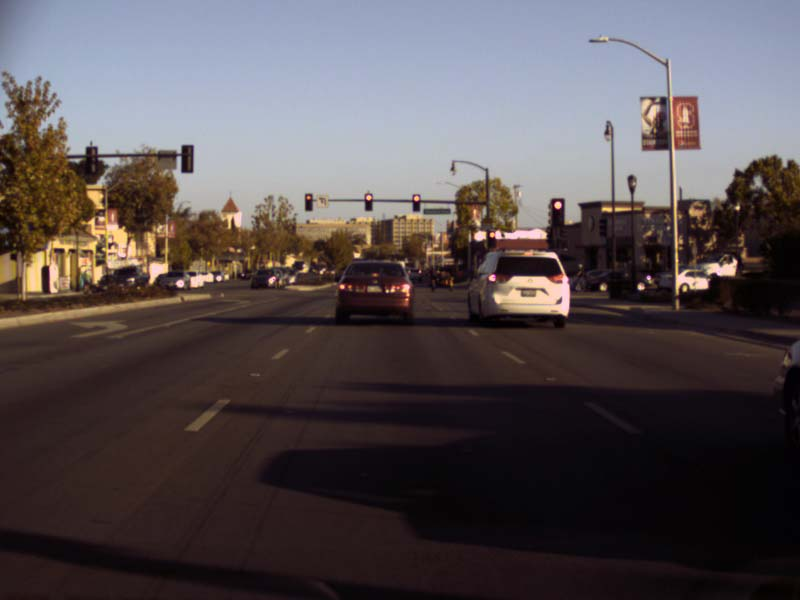Red: (552, 199, 562, 226), (305, 194, 312, 210), (365, 194, 371, 210), (413, 194, 419, 210)
